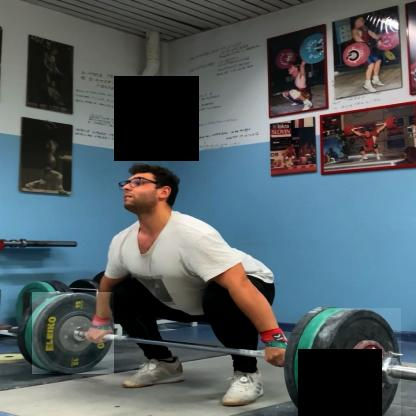barbell: (324, 309, 402, 416), (33, 293, 115, 375)
